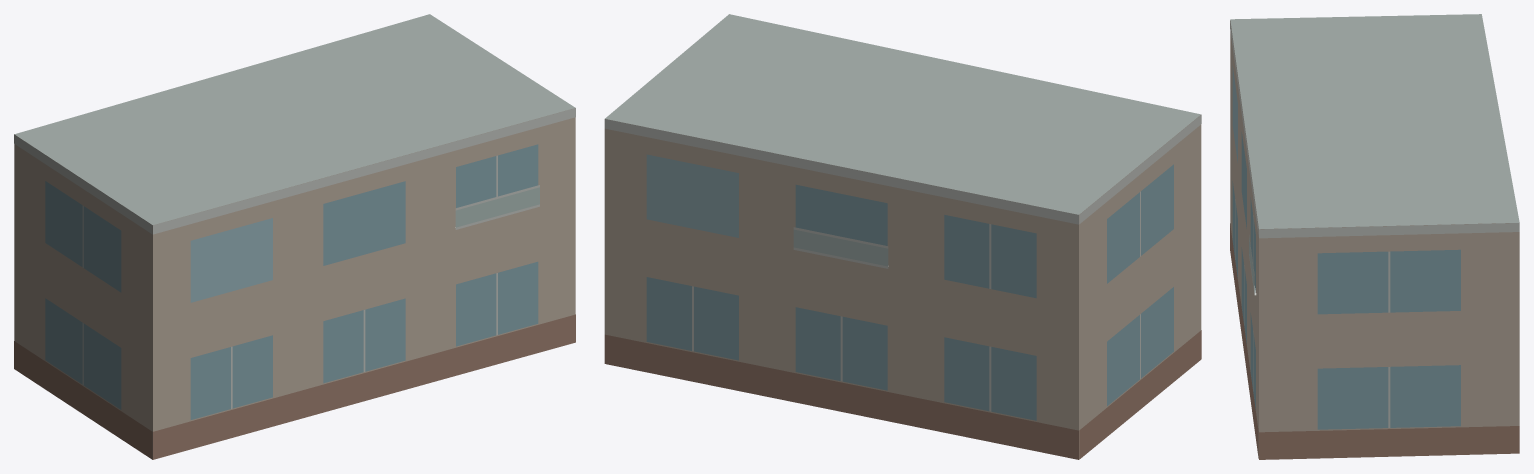
Rendered from survey-upis-32808269.glb.
3 views of the same model, side by side, from view 1: azimuth 30°, elevation 25°; view 2: azimuth 150°, elevation 25°; view 3: azimuth 270°, elevation 25° (orthographic). The views are drawn at different scales.
Visible parts, largest first — view 1: survey-upis-32808269.tmp; view 2: survey-upis-32808269.tmp; view 3: survey-upis-32808269.tmp.
Part boxes in pixels (x1,y1,x2,y2): survey-upis-32808269.tmp: (14, 14, 575, 459); survey-upis-32808269.tmp: (604, 14, 1201, 459); survey-upis-32808269.tmp: (1230, 14, 1519, 459).
Bounding box in the file's own units: 12.21 × 6.1 × 6.95.
